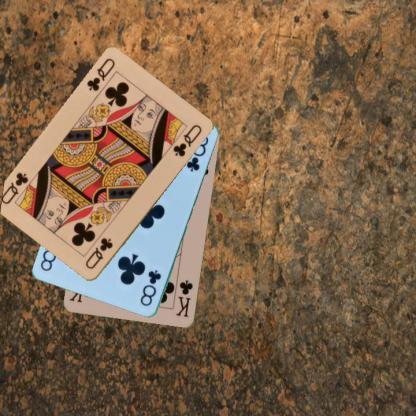8c: (137, 267, 163, 308)
Kc: (173, 278, 194, 318)
Qc: (84, 55, 116, 93), (82, 235, 114, 271)
